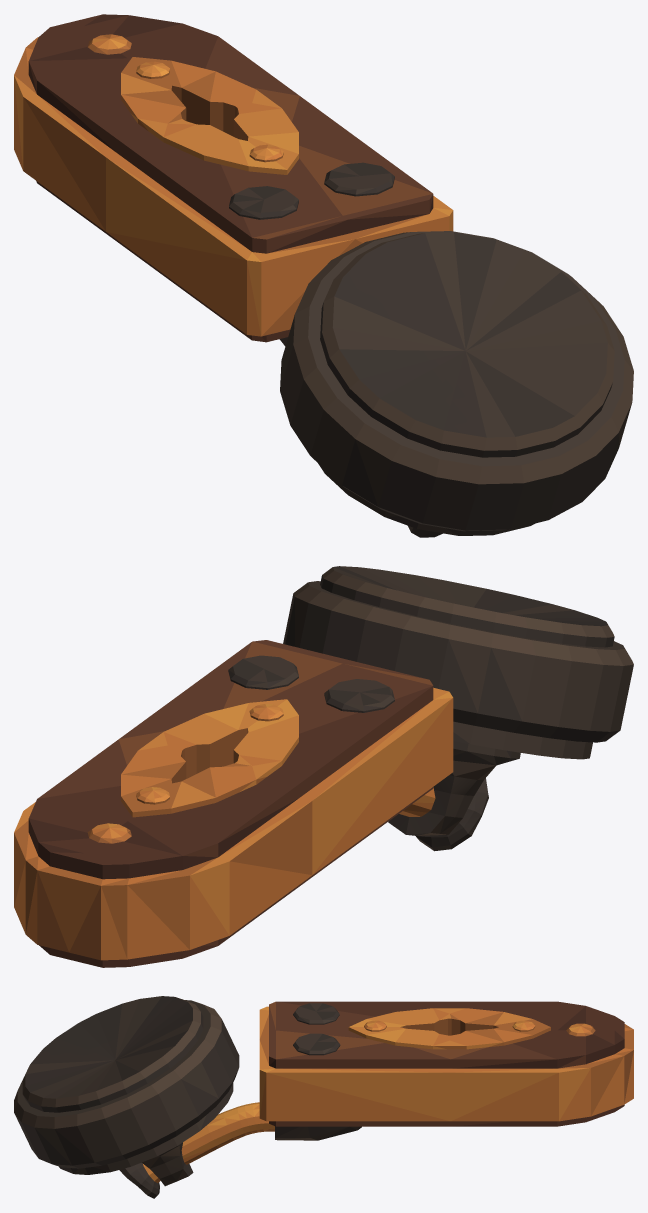
File: controller.fbx
3 renders of one model, top to bottom at view 1: azimuth 30°, elevation 25°; view 2: azimuth 150°, elevation 25°; view 3: azimuth 270°, elevation 25°, orthographic. The views are drawn at different scales.
Parts seen in each view (by area): view 1: controller; view 2: controller; view 3: controller.
Boxes of the visible parts, <box> form: controller: <box>14,14,633,537</box>; controller: <box>14,566,633,967</box>; controller: <box>14,996,633,1198</box>.
Bounding box in the file's own units: 9.93 × 8.84 × 27.19.
